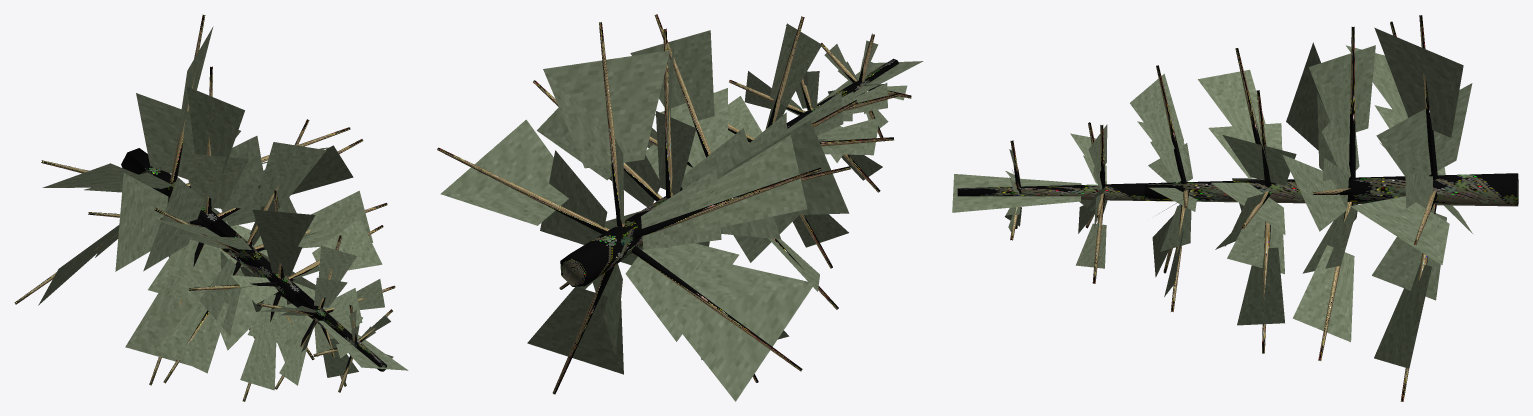
File: FIR_LOW_local.glb
3 views of the same model, side by side, from view 1: azimuth 30°, elevation 25°; view 2: azimuth 150°, elevation 25°; view 3: azimuth 270°, elevation 25° (orthographic). The views are drawn at different scales.
Parts seen in each view (by area): view 1: NeedleSprigCards_DoubleSided_MASK, StructuralBranches_Conifer, TreeTrunk_Bark; view 2: NeedleSprigCards_DoubleSided_MASK, StructuralBranches_Conifer, TreeTrunk_Bark; view 3: NeedleSprigCards_DoubleSided_MASK, TreeTrunk_Bark, StructuralBranches_Conifer.
Boxes of the visible parts, left/top/right/bottom form: NeedleSprigCards_DoubleSided_MASK: left=38, top=26, right=408, bottom=390; StructuralBranches_Conifer: left=14, top=14, right=395, bottom=401; TreeTrunk_Bark: left=121, top=148, right=386, bottom=371; NeedleSprigCards_DoubleSided_MASK: left=440, top=23, right=923, bottom=401; StructuralBranches_Conifer: left=437, top=14, right=911, bottom=394; TreeTrunk_Bark: left=560, top=58, right=898, bottom=286; NeedleSprigCards_DoubleSided_MASK: left=952, top=27, right=1472, bottom=368; TreeTrunk_Bark: left=957, top=173, right=1518, bottom=206; StructuralBranches_Conifer: left=1010, top=15, right=1437, bottom=401.
Size of the model in its own units: 1.57 by 1.57 by 2.22.
2 materials, 2 textured.
